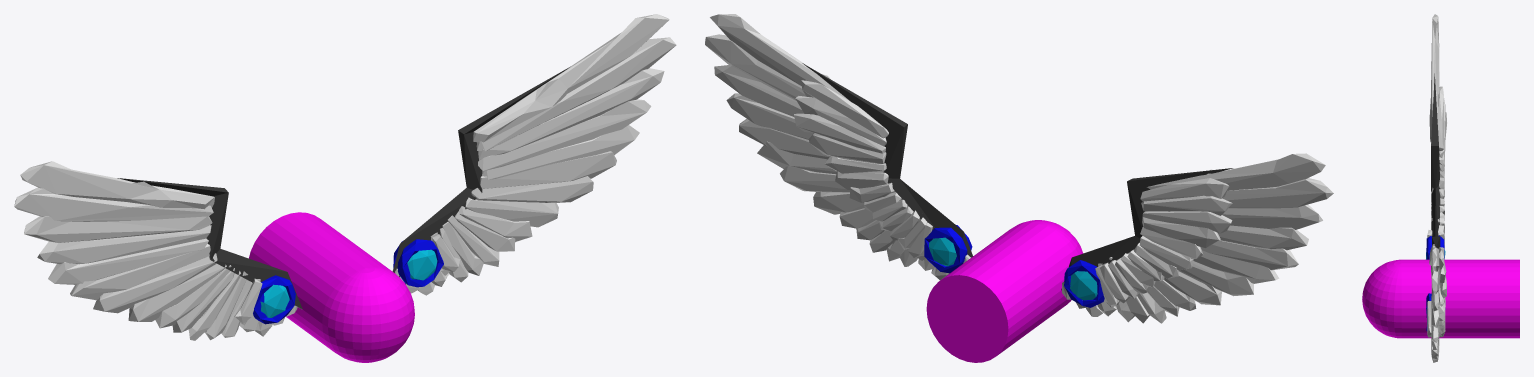
File: wings_bullet.fbx
3 views of the same model, side by side, from view 1: azimuth 30°, elevation 25°; view 2: azimuth 150°, elevation 25°; view 3: azimuth 270°, elevation 25° (orthographic). The views are drawn at different scales.
Visible parts, largest first — view 1: uploads_files_2369506_engel; view 2: uploads_files_2369506_engel; view 3: uploads_files_2369506_engel.
Boxes of the visible parts, x1=… form: uploads_files_2369506_engel: x1=14, y1=14, x2=676, y2=362; uploads_files_2369506_engel: x1=705, y1=14, x2=1333, y2=362; uploads_files_2369506_engel: x1=1362, y1=14, x2=1519, y2=362.
Bounding box in the file's own units: 1537 × 561 × 400.
